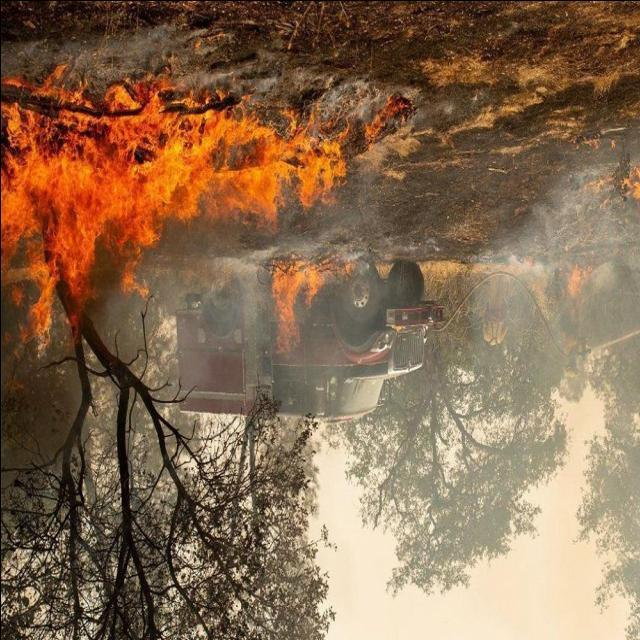Fire: (2, 78, 358, 346), (270, 256, 354, 356)
